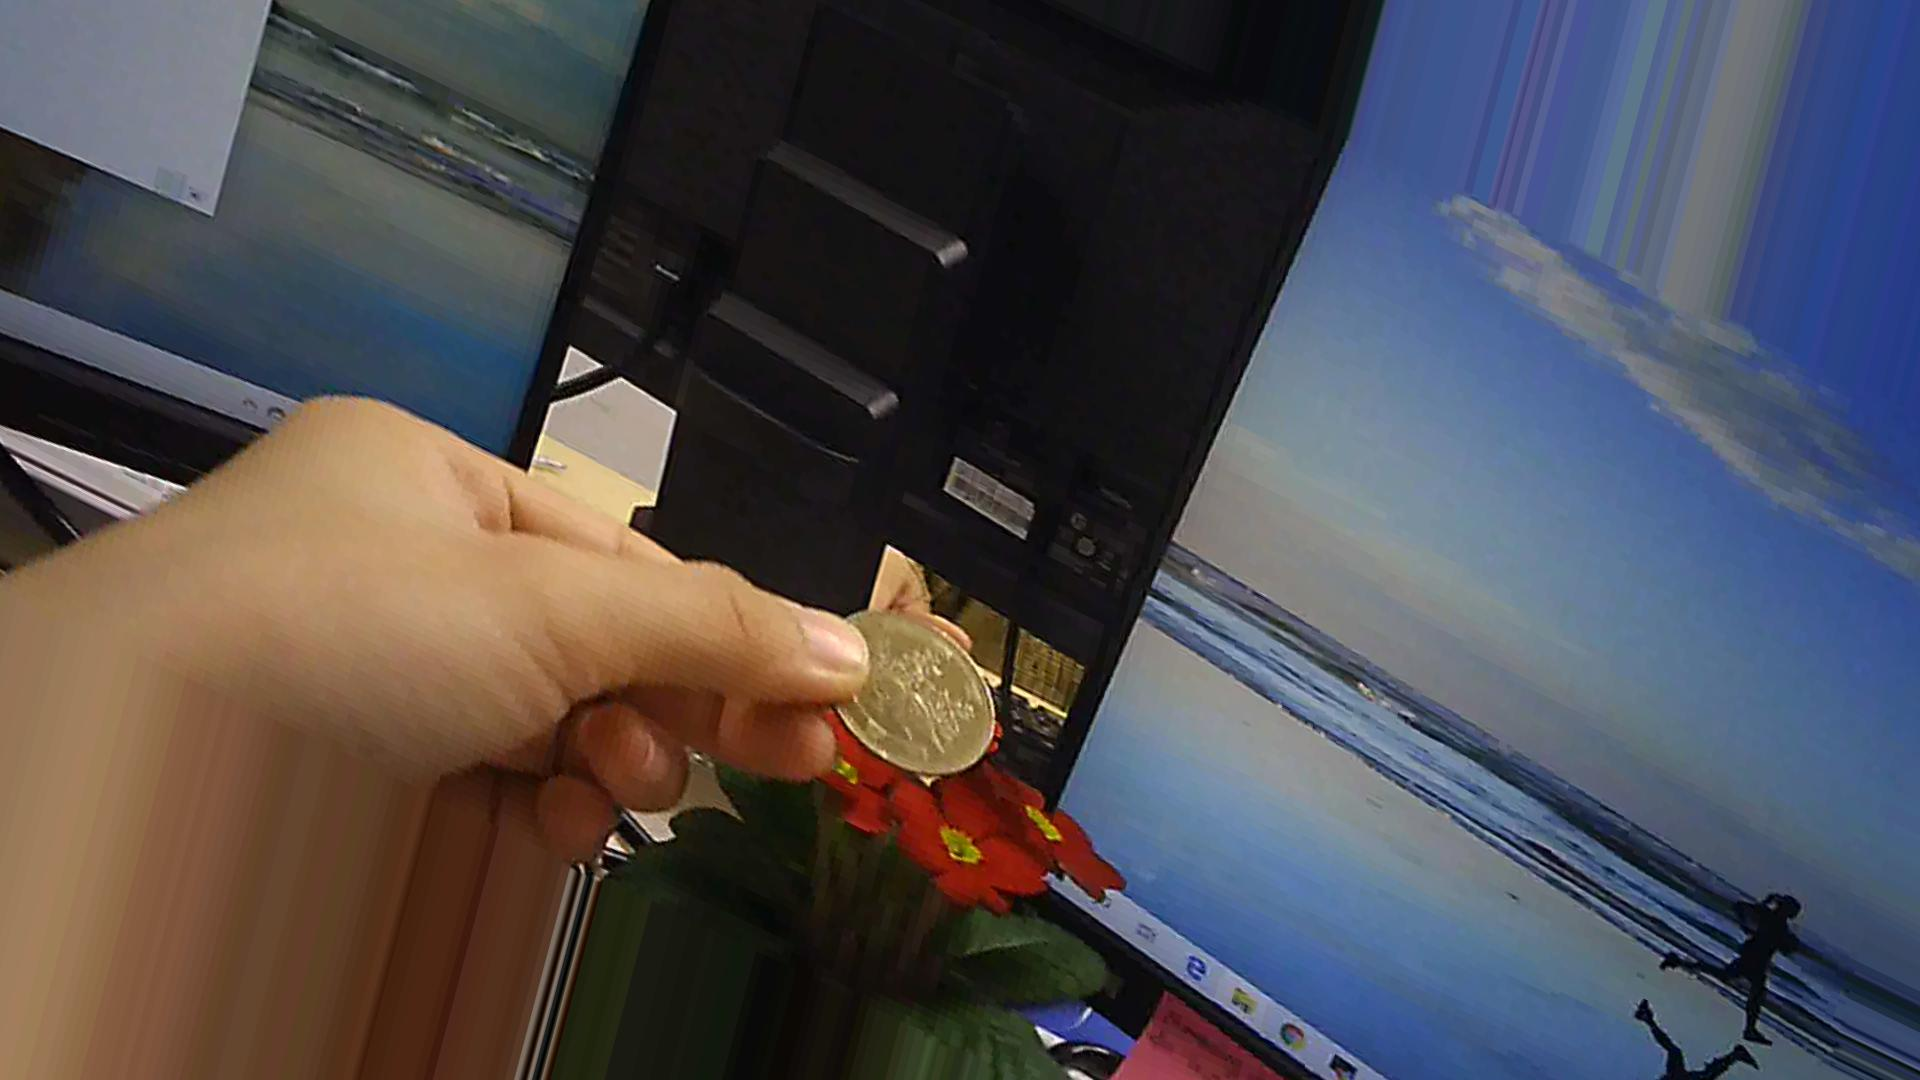500 Yen: (811, 601, 1005, 785)
